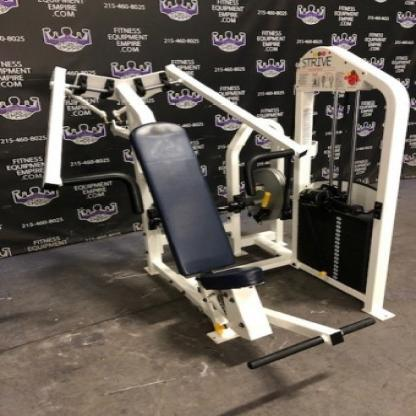Chest Press machine: (41, 37, 416, 373)
